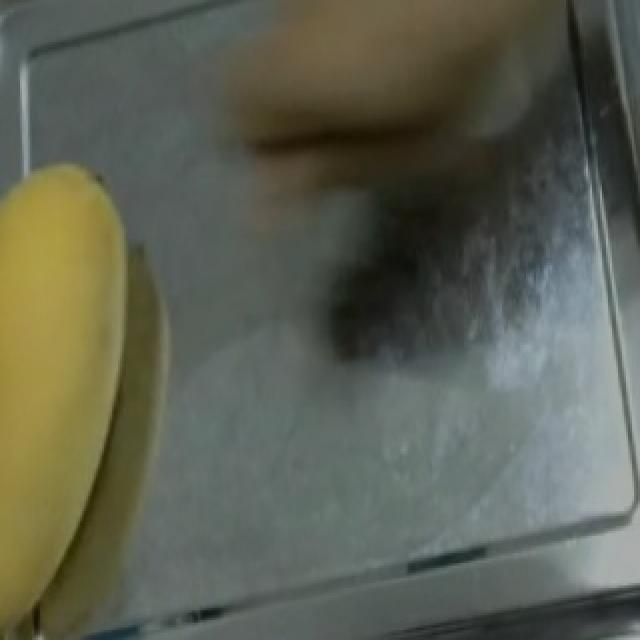fruit: (0, 139, 172, 513), (214, 0, 542, 176)
